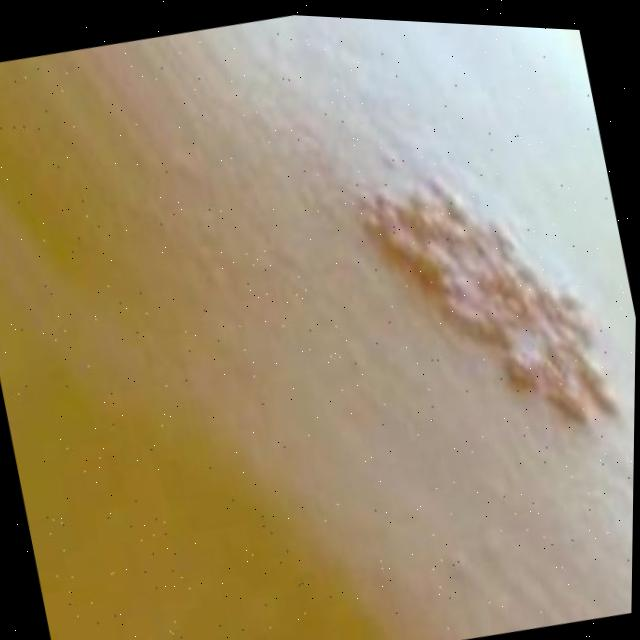Shingles: (338, 132, 635, 485)
